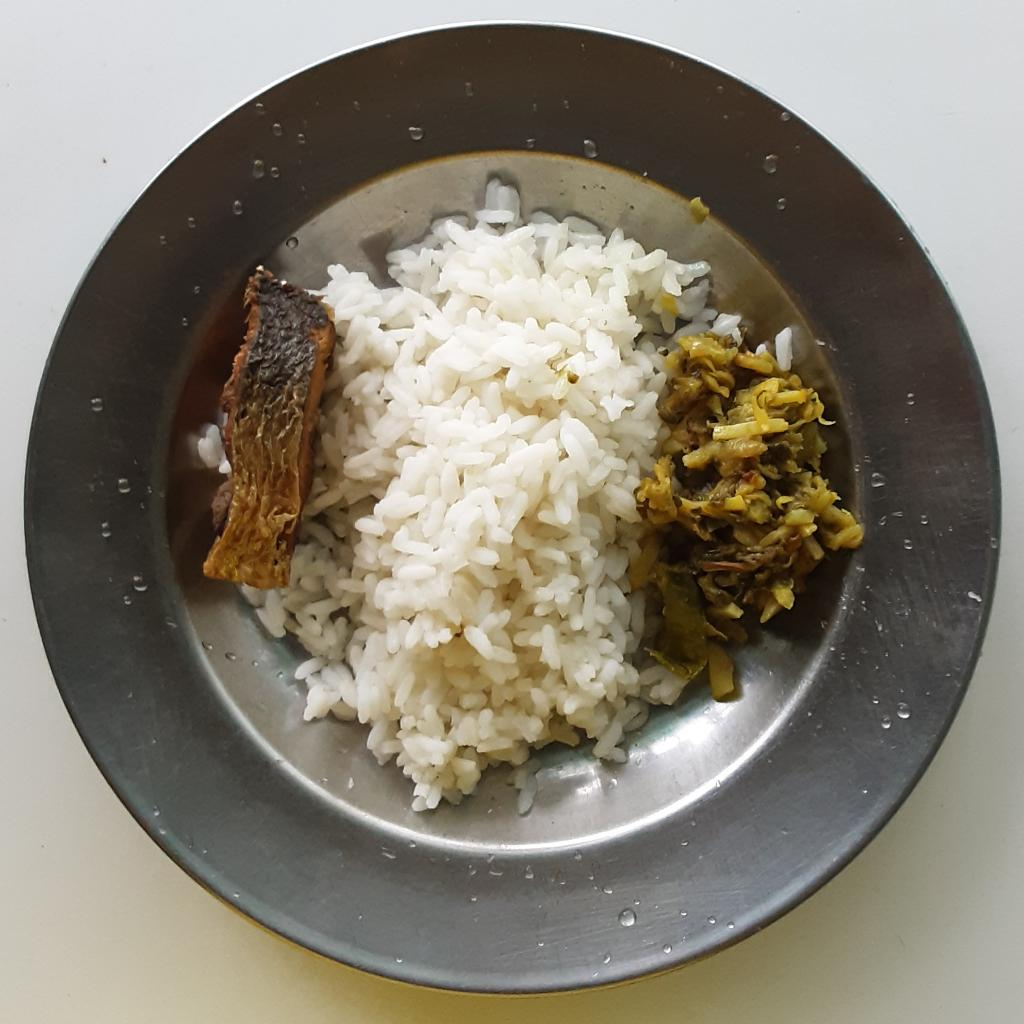fish: (196, 267, 340, 596)
korola-vaji: (632, 334, 871, 701)
rice: (245, 175, 759, 816)
